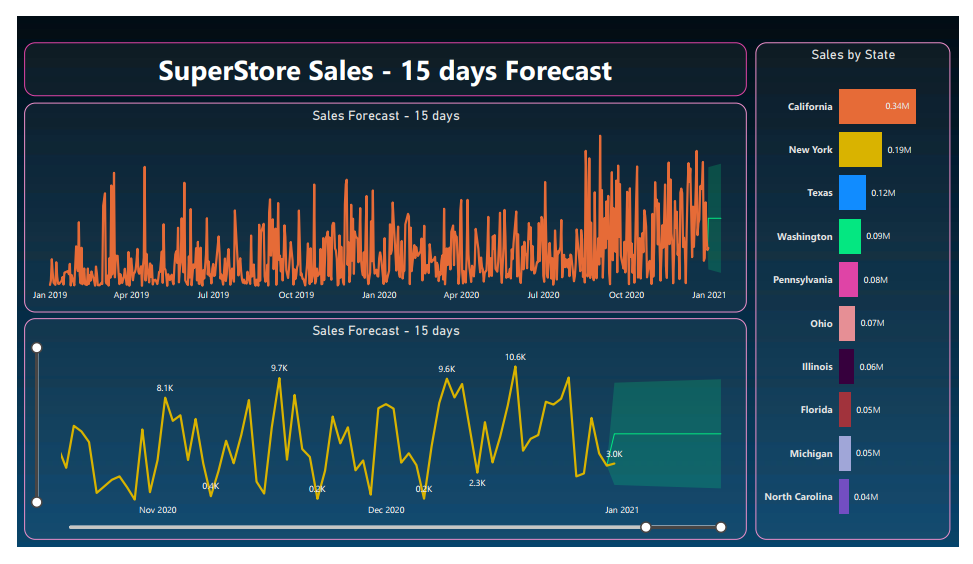

This screenshot's page, from the dashboard's own definition file:
{"tool":"powerbi","page":{"name":"Forecast","canvas":[1280,720],"ordinal":1},"visuals":[{"type":"lineChart","title":"Sales Forecast - 15 days","fields":{"Y":["Sum(Sheet1.Sales)"],"Category":["Sheet1.Order Date"]},"box":[8.6,410.4,983.5,301],"z":0},{"type":"lineChart","title":"Sales Forecast - 15 days","fields":{"Y":["Sum(Sheet1.Sales)"],"Category":["Sheet1.Order Date"]},"box":[8.6,116.6,983.5,285.1],"z":1000},{"type":"barChart","title":"Sales by State","fields":{"Category":["Sheet1.State"],"Y":["Sum(Sheet1.Sales)"]},"box":[1003.7,34.6,265,676.8],"z":2000},{"type":"textbox","box":[8.6,34.6,983.5,73.4],"z":3000}]}

Visuals, with their boxes in screenshot pixels (x1, y1, x2, y2), scaled from the page's 1280x720 canvas onto the 973x564 screenshot:
"Sales Forecast - 15 days" lineChart: [x1=7, y1=321, x2=754, y2=557]
"Sales Forecast - 15 days" lineChart: [x1=7, y1=91, x2=754, y2=315]
"Sales by State" barChart: [x1=763, y1=27, x2=964, y2=557]
textbox: [x1=7, y1=27, x2=754, y2=85]
